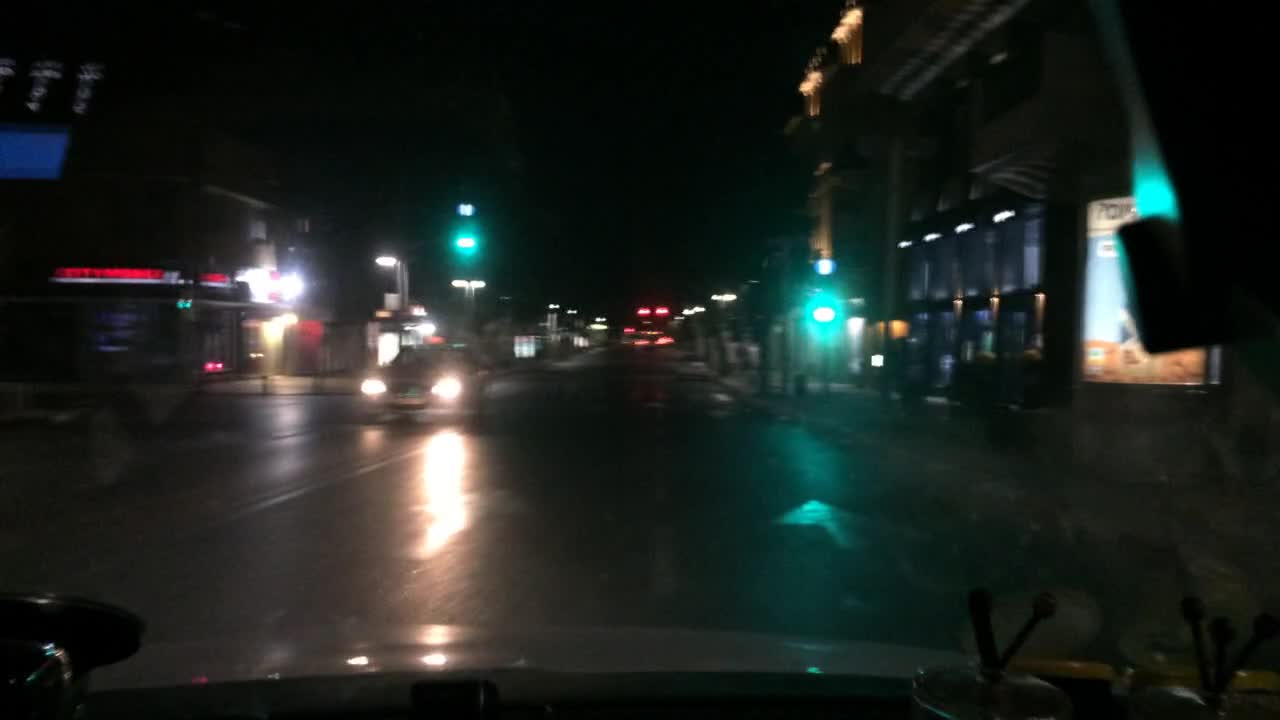car: (360, 342, 494, 427), (671, 349, 714, 380), (631, 327, 670, 351)
traffic light: (813, 285, 833, 326), (457, 219, 476, 255)
traffic sign: (811, 256, 837, 278), (457, 199, 474, 218)
truck: (0, 290, 195, 488)
